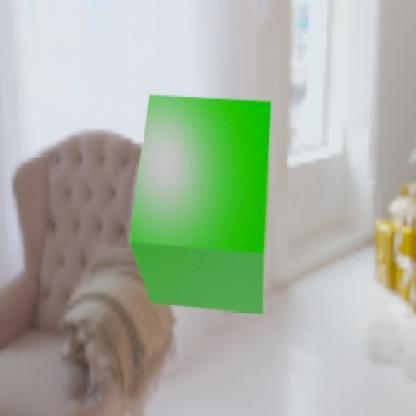cube: (128, 92, 272, 314)
